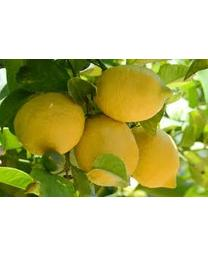lemon: (74, 116, 141, 185), (93, 65, 171, 121), (14, 94, 85, 155), (132, 127, 180, 189)
